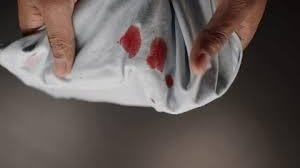blood: (118, 27, 143, 58), (146, 39, 169, 71)
